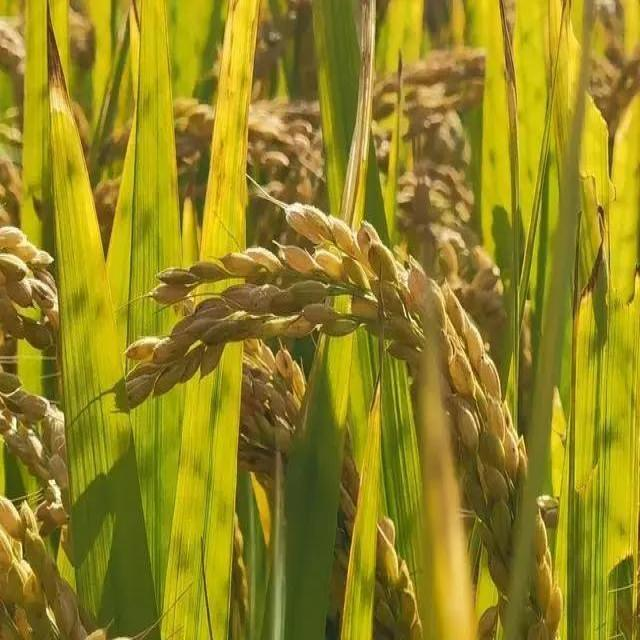Padi: (122, 178, 596, 634), (146, 58, 580, 186), (0, 148, 90, 640)
